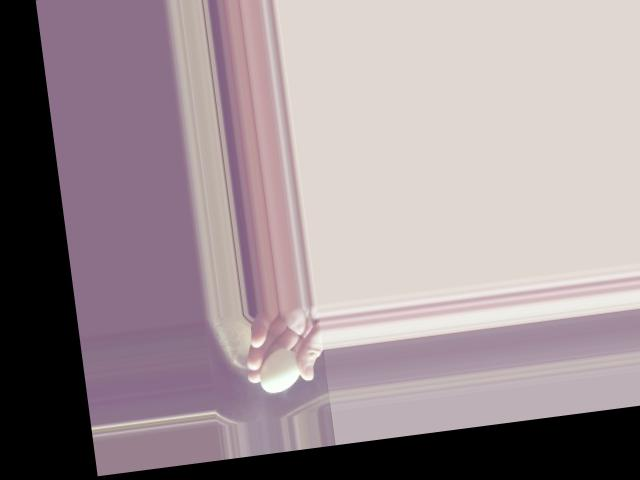egg: (257, 346, 302, 394)
